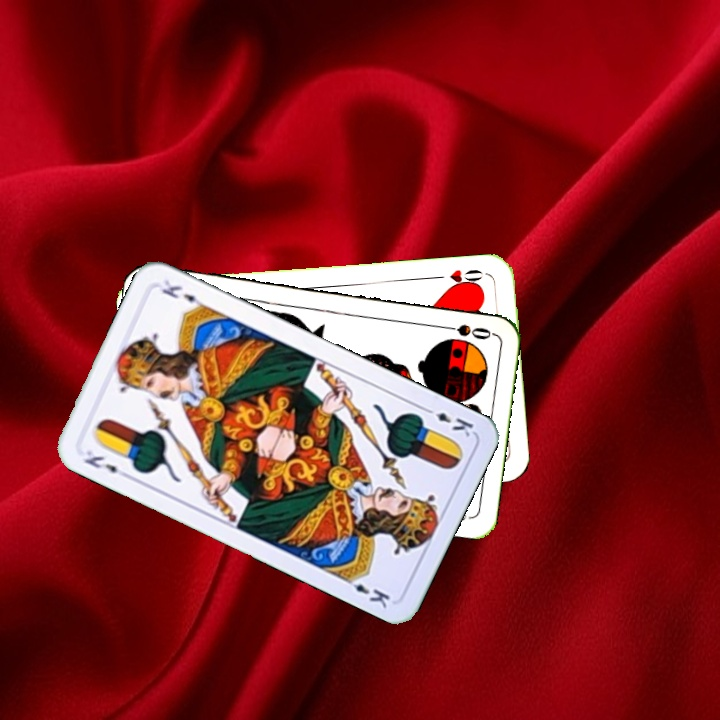EK: (419, 403, 476, 440), (80, 446, 132, 481)
HO: (430, 265, 485, 291)
SO: (436, 320, 495, 342)
